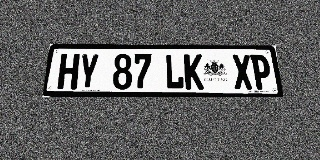7: (132, 54, 152, 89)
8: (112, 54, 133, 89)
H: (57, 54, 80, 89)
K: (184, 54, 204, 89)
L: (165, 54, 184, 89)
P: (250, 55, 273, 89)
X: (231, 55, 253, 89)
Y: (77, 54, 99, 89)
